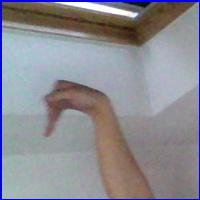del: (37, 76, 110, 144)
